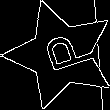P_W: (29, 29, 92, 80)
